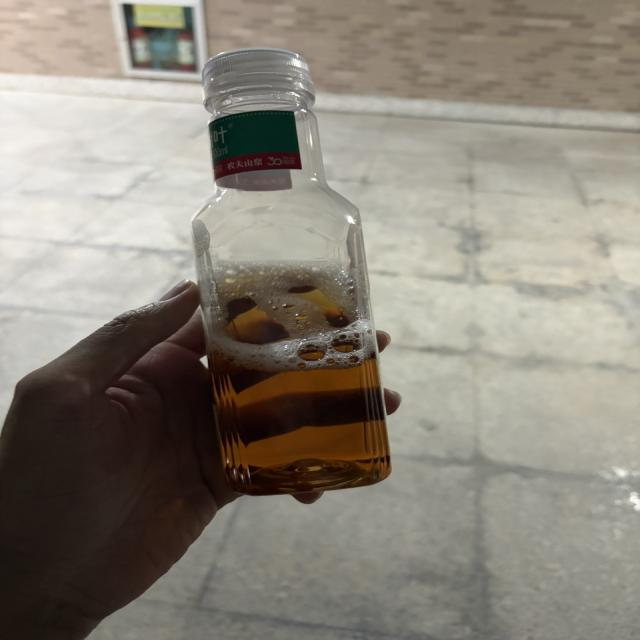medium: (192, 48, 390, 495)
